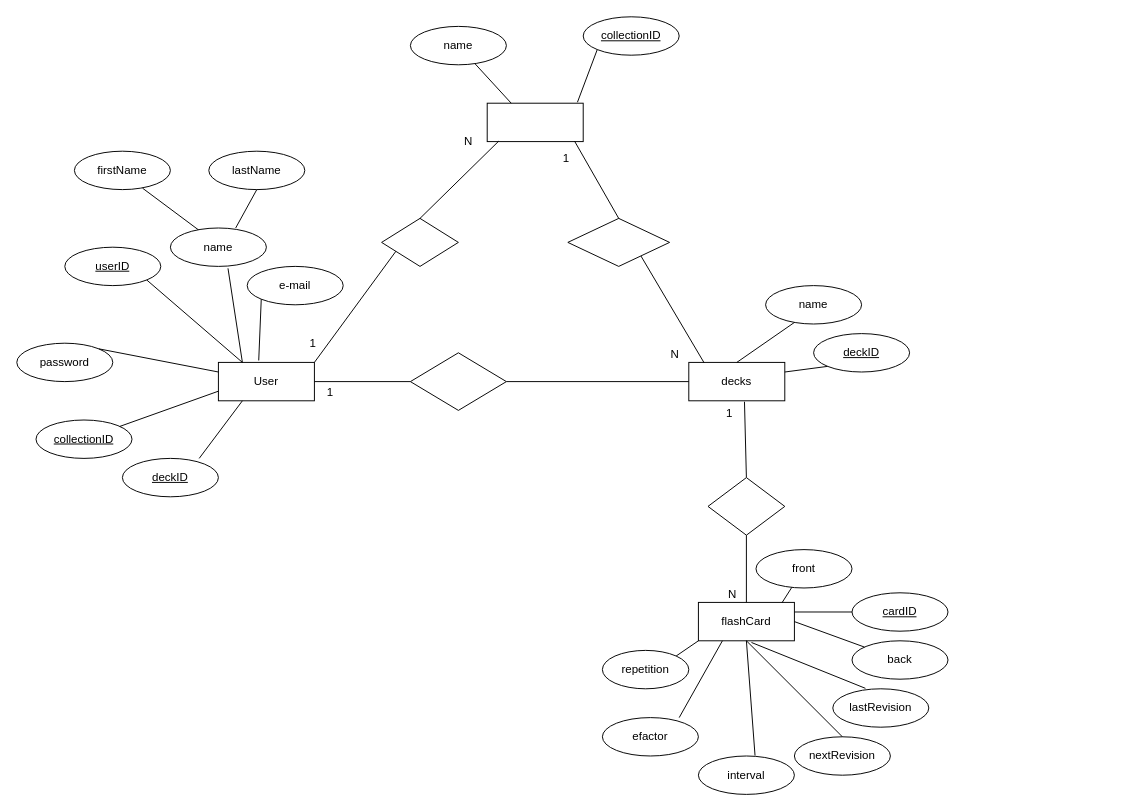
Image size: 1147x811. Some labels were removed from this diagram. Each missing label, with the centre of its shape:
BELONGS_TO: point 618,241
creates: point 457,381
deckCollections: point 534,122
HAS: point 746,506
HAVE: point 419,241
